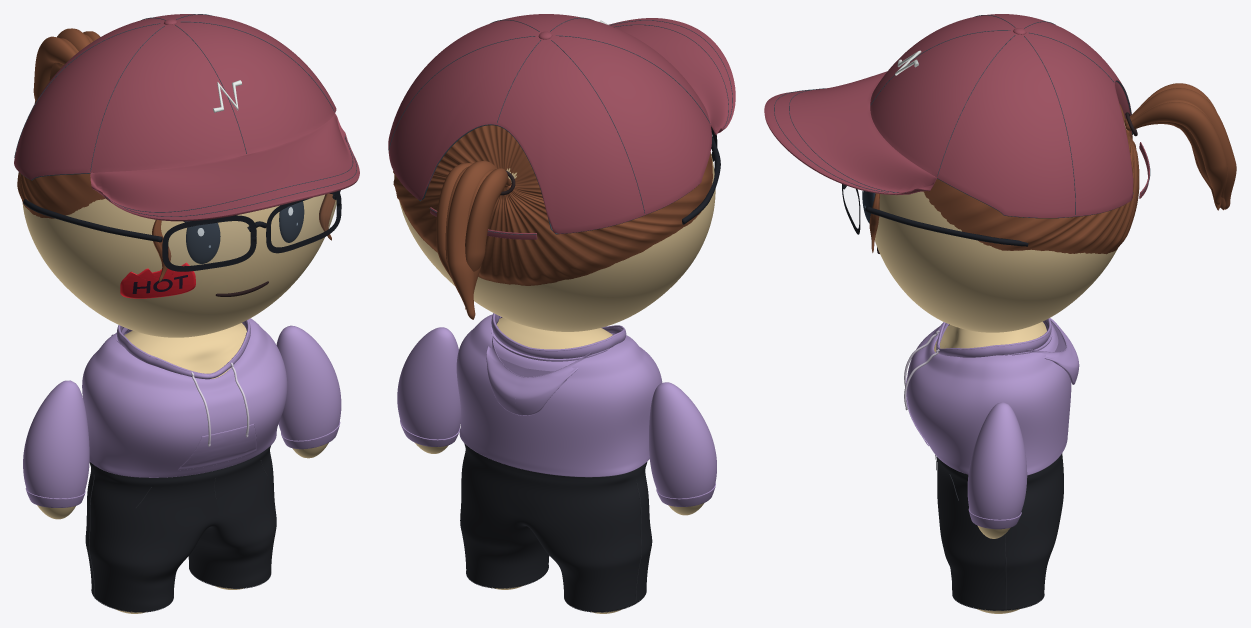
Rendered from Feminine-hoodie-pants-cap263.glb.
3 views of the same model, side by side, from view 1: azimuth 30°, elevation 25°; view 2: azimuth 150°, elevation 25°; view 3: azimuth 270°, elevation 25° (orthographic). The views are drawn at different scales.
Parts seen in each view (by area): view 1: Cap / sewn crown and curved bill212, Bottom / continuous pants187.001, Skin / soft oval head, Clothing / tailored203.001, Sleeve / full fabric wrap201 -1.001, Sleeve / full fabric wrap201 1.001, Skin / rounded torso, Hair / swept roots220, 226 glasses / Accessory / warm metal226, Hoodie / seated pouch202.001, HOT / original flame silhouette212, Hair / rounded tail220 0 (+6 smaller); view 2: Cap / sewn crown and curved bill212, Bottom / continuous pants187.001, Clothing / tailored203.001, Hair / swept roots220, Skin / soft oval head, Sleeve / full fabric wrap201 -1.001, Sleeve / full fabric wrap201 1.001, Hoodie / rounded resting hood215.001, Hair / rounded tail220 2, Hair / rounded tail220 0, Skin / rounded torso, Hoodie / attached opening204.001 (+4 smaller); view 3: Cap / sewn crown and curved bill212, Skin / soft oval head, Clothing / tailored203.001, Bottom / continuous pants187.001, Hair / swept roots220, Sleeve / full fabric wrap201 1.001, Hair / rounded tail220 4, Hair / rounded tail220 2, Skin / rounded torso, Hoodie / attached opening204.001, 226 glasses / Glasses / frame226, Hoodie / rounded resting hood215.001 (+1 smaller).
Boxes of the visible parts, left/top/right/bottom form: Cap / sewn crown and curved bill212: left=14, top=14, right=359, bottom=221; Bottom / continuous pants187.001: left=85, top=446, right=276, bottom=611; Skin / soft oval head: left=22, top=194, right=336, bottom=337; Clothing / tailored203.001: left=82, top=318, right=287, bottom=477; Sleeve / full fabric wrap201 -1.001: left=23, top=380, right=89, bottom=498; Sleeve / full fabric wrap201 1.001: left=276, top=325, right=341, bottom=440; Skin / rounded torso: left=124, top=323, right=246, bottom=379; Hair / swept roots220: left=17, top=172, right=105, bottom=218; 226 glasses / Accessory / warm metal226: left=162, top=191, right=341, bottom=271; Hoodie / seated pouch202.001: left=178, top=424, right=256, bottom=470; HOT / original flame silhouette212: left=120, top=262, right=195, bottom=298; Hair / rounded tail220 0: left=33, top=36, right=76, bottom=101; Cap / sewn crown and curved bill212: left=388, top=14, right=735, bottom=233; Bottom / continuous pants187.001: left=460, top=443, right=652, bottom=611; Clothing / tailored203.001: left=456, top=314, right=662, bottom=477; Hair / swept roots220: left=393, top=125, right=712, bottom=285; Skin / soft oval head: left=399, top=152, right=715, bottom=331; Sleeve / full fabric wrap201 -1.001: left=649, top=382, right=716, bottom=498; Sleeve / full fabric wrap201 1.001: left=397, top=327, right=460, bottom=439; Hoodie / rounded resting hood215.001: left=486, top=314, right=591, bottom=415; Hair / rounded tail220 2: left=446, top=161, right=496, bottom=319; Hair / rounded tail220 0: left=465, top=168, right=511, bottom=309; Skin / rounded torso: left=496, top=317, right=612, bottom=349; Hoodie / attached opening204.001: left=491, top=315, right=626, bottom=361; Cap / sewn crown and curved bill212: left=764, top=14, right=1133, bottom=217; Skin / soft oval head: left=874, top=122, right=1126, bottom=332; Clothing / tailored203.001: left=906, top=322, right=1071, bottom=475; Bottom / continuous pants187.001: left=936, top=453, right=1063, bottom=610; Hair / swept roots220: left=922, top=103, right=1139, bottom=254; Sleeve / full fabric wrap201 1.001: left=967, top=402, right=1027, bottom=519; Hair / rounded tail220 4: left=1125, top=102, right=1227, bottom=204; Hair / rounded tail220 2: left=1124, top=88, right=1236, bottom=209; Skin / rounded torso: left=934, top=321, right=1046, bottom=353; Hoodie / attached opening204.001: left=936, top=319, right=1052, bottom=357; 226 glasses / Glasses / frame226: left=865, top=206, right=1028, bottom=246; Hoodie / rounded resting hood215.001: left=1026, top=318, right=1079, bottom=384.
Bounding box in the file's own units: 1.06 × 1.84 × 1.42.
